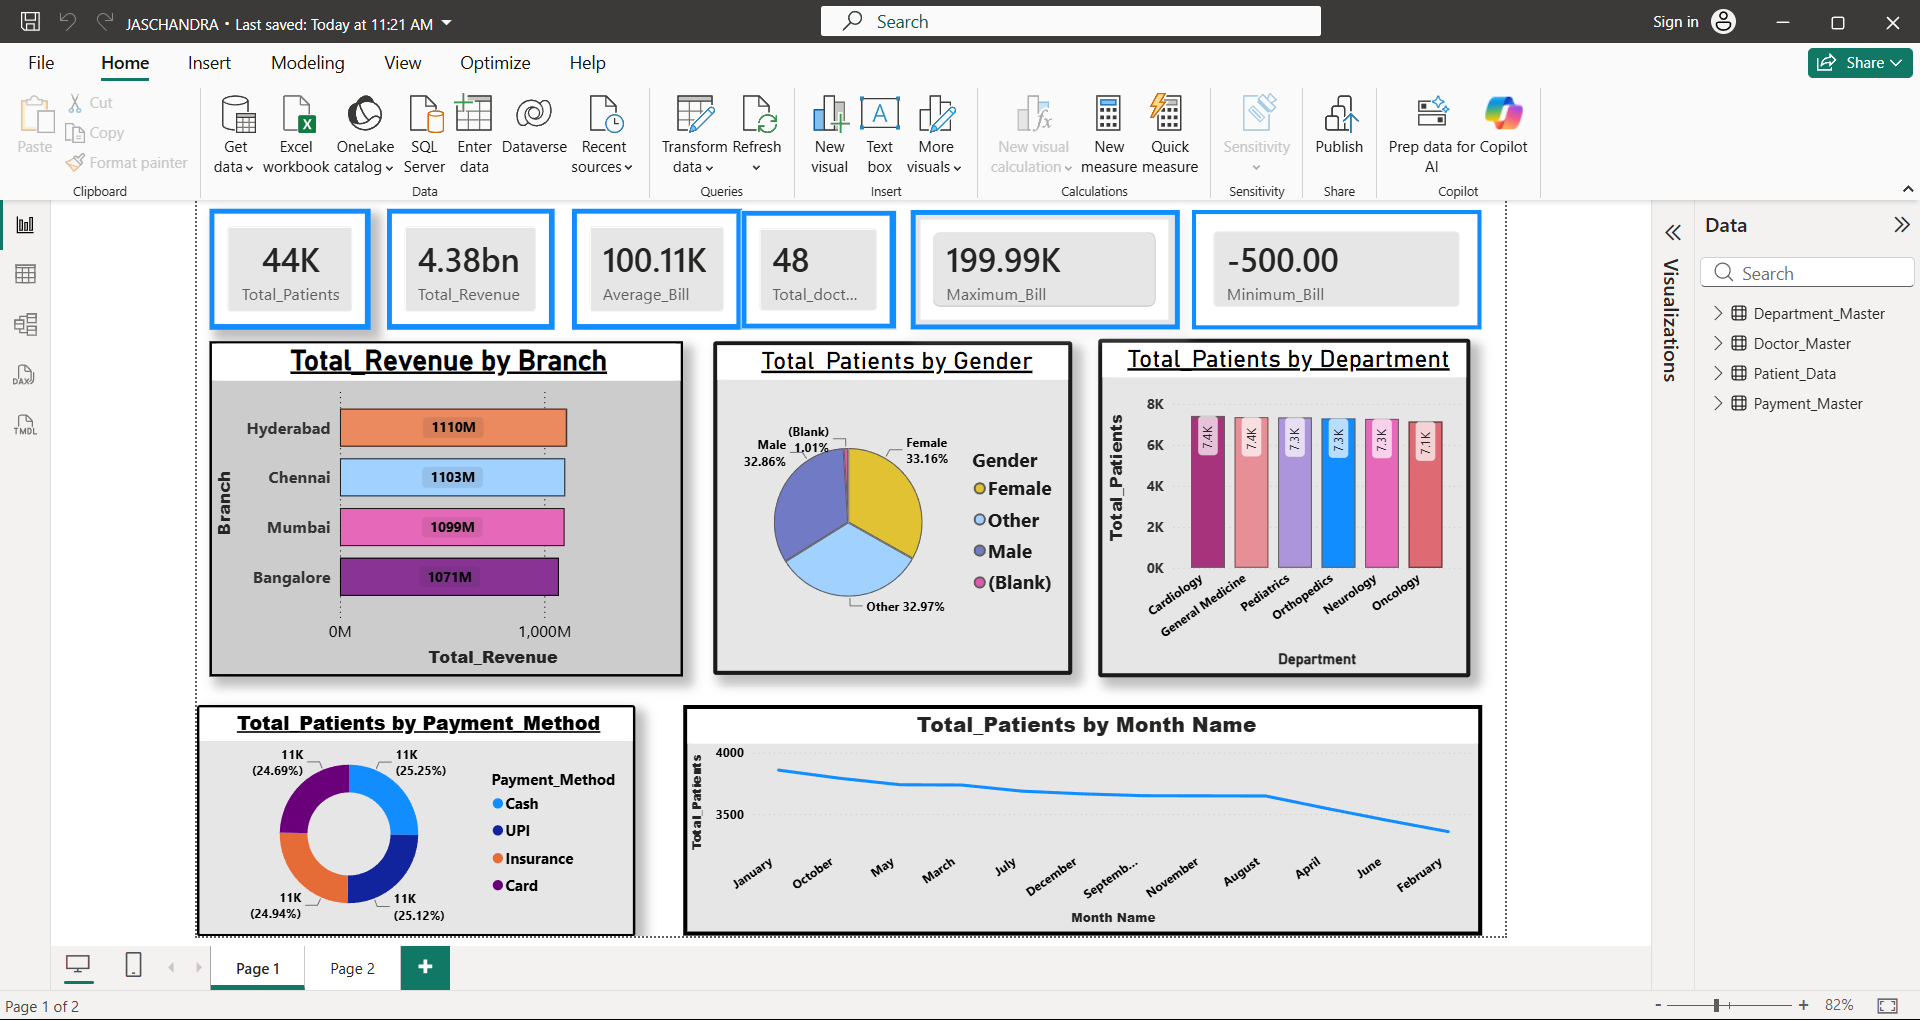

What the dashboard file says about the page in this screenshot:
{"tool":"powerbi","page":{"name":"Page 1","canvas":[1280,720],"ordinal":0},"visuals":[{"type":"cardVisual","fields":{"Data":["Patient_Data.Total_Patients"]},"box":[12.2,8.6,157.7,118.6],"z":0},{"type":"cardVisual","fields":{"Data":["Patient_Data.Total_Revenue"]},"box":[185.9,8.6,163.9,118.6],"z":1000},{"type":"cardVisual","fields":{"Data":["Patient_Data.Average_Bill"]},"box":[366.4,8.2,166,118],"z":2000},{"type":"cardVisual","fields":{"Data":["Patient_Data.Total_doctors"]},"box":[531.4,10,152.9,117.1],"z":3000},{"type":"clusteredBarChart","fields":{"Category":["Patient_Data.Branch"],"Y":["Patient_Data.Total_Revenue"]},"box":[11.7,138.3,463.3,328.3],"z":4000},{"type":"pieChart","fields":{"Category":["Patient_Data.Gender"],"Y":["Patient_Data.Total_Patients"]},"box":[505,138.8,351.2,326.2],"z":5000},{"type":"lineClusteredColumnComboChart","fields":{"Category":["Patient_Data.Department"],"Y":["Patient_Data.Total_Patients"]},"box":[881.4,135.7,364.3,331.4],"z":6000},{"type":"donutChart","fields":{"Category":["Patient_Data.Payment_Method"],"Y":["Patient_Data.Total_Patients"]},"box":[0,493.8,428.8,226.2],"z":7000},{"type":"lineChart","fields":{"Category":["Patient_Data.Month Name"],"Y":["Patient_Data.Total_Patients"]},"box":[475.7,494.3,781.4,225.7],"z":8000},{"type":"cardVisual","fields":{"Data":["Patient_Data.Maximum_Bill"]},"box":[698.6,10,262.9,117.1],"z":9000},{"type":"cardVisual","fields":{"Data":["Patient_Data.Minimum_Bill"]},"box":[973.3,10,283.3,116.7],"z":10000}]}

Visuals, with their boxes on the page's 1280x720 design canvas (x1, y1, x2, y2). These are canvas units, not pixel positions in the 1920x1020 screenshot, which may show the page scaled, cropped or inside an application window:
cardVisual - Patient_Data.Total_Patients: detection(12, 9, 170, 127)
cardVisual - Patient_Data.Total_Revenue: detection(186, 9, 350, 127)
cardVisual - Patient_Data.Average_Bill: detection(366, 8, 532, 126)
cardVisual - Patient_Data.Total_doctors: detection(531, 10, 684, 127)
clusteredBarChart - Patient_Data.Branch x Patient_Data.Total_Revenue: detection(12, 138, 475, 467)
pieChart - Patient_Data.Gender x Patient_Data.Total_Patients: detection(505, 139, 856, 465)
lineClusteredColumnComboChart - Patient_Data.Department x Patient_Data.Total_Patients: detection(881, 136, 1246, 467)
donutChart - Patient_Data.Payment_Method x Patient_Data.Total_Patients: detection(0, 494, 429, 720)
lineChart - Patient_Data.Month Name x Patient_Data.Total_Patients: detection(476, 494, 1257, 720)
cardVisual - Patient_Data.Maximum_Bill: detection(699, 10, 962, 127)
cardVisual - Patient_Data.Minimum_Bill: detection(973, 10, 1257, 127)
